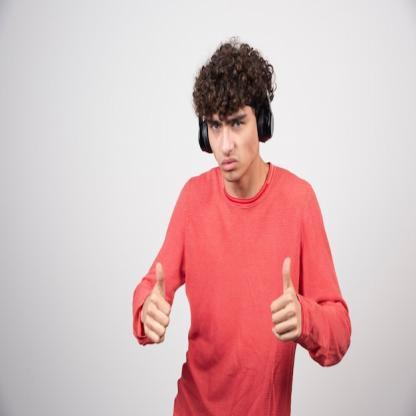thumb_up: (266, 254, 307, 352), (141, 260, 175, 350)
